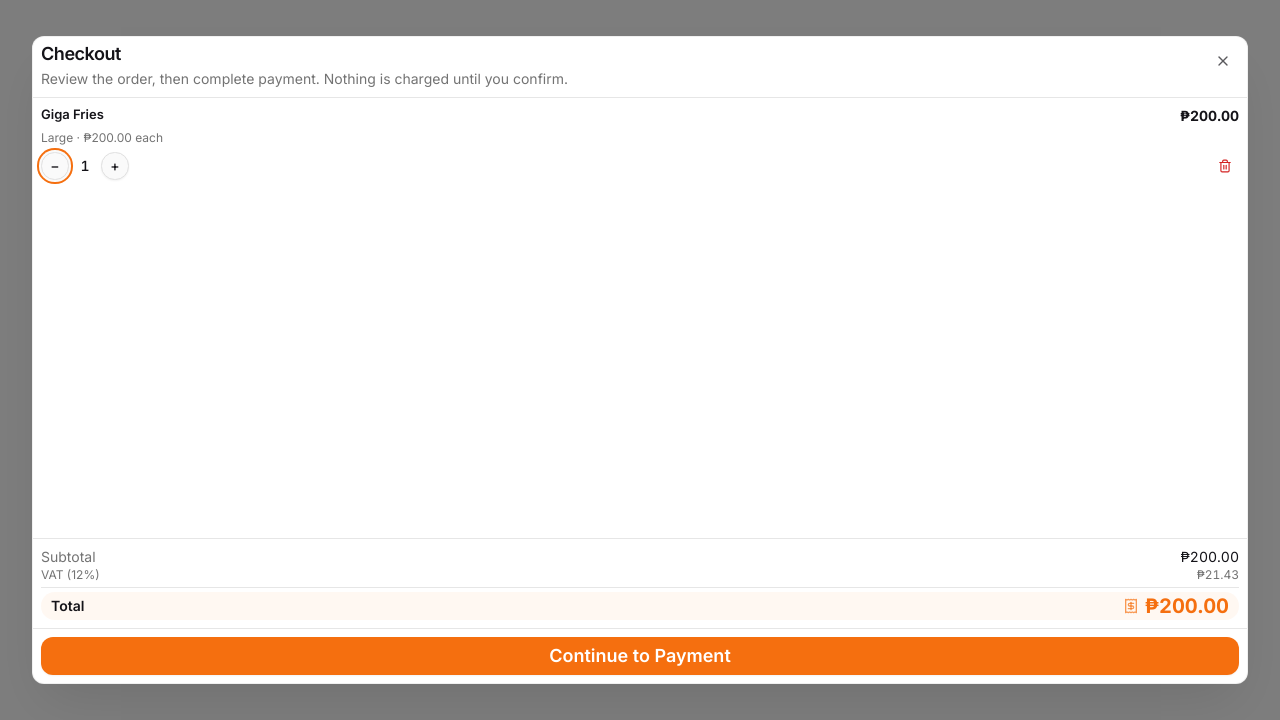
CheckoutWorkspace — stepped layout (Task 209.25, mobile/tablet portrait) › Continue to Payment moves to the Payment step, and Back returns to Order Review
The image size is (1280, 720).
Click the button "Continue to Payment" at point(640, 656), box [41,637,1239,675]
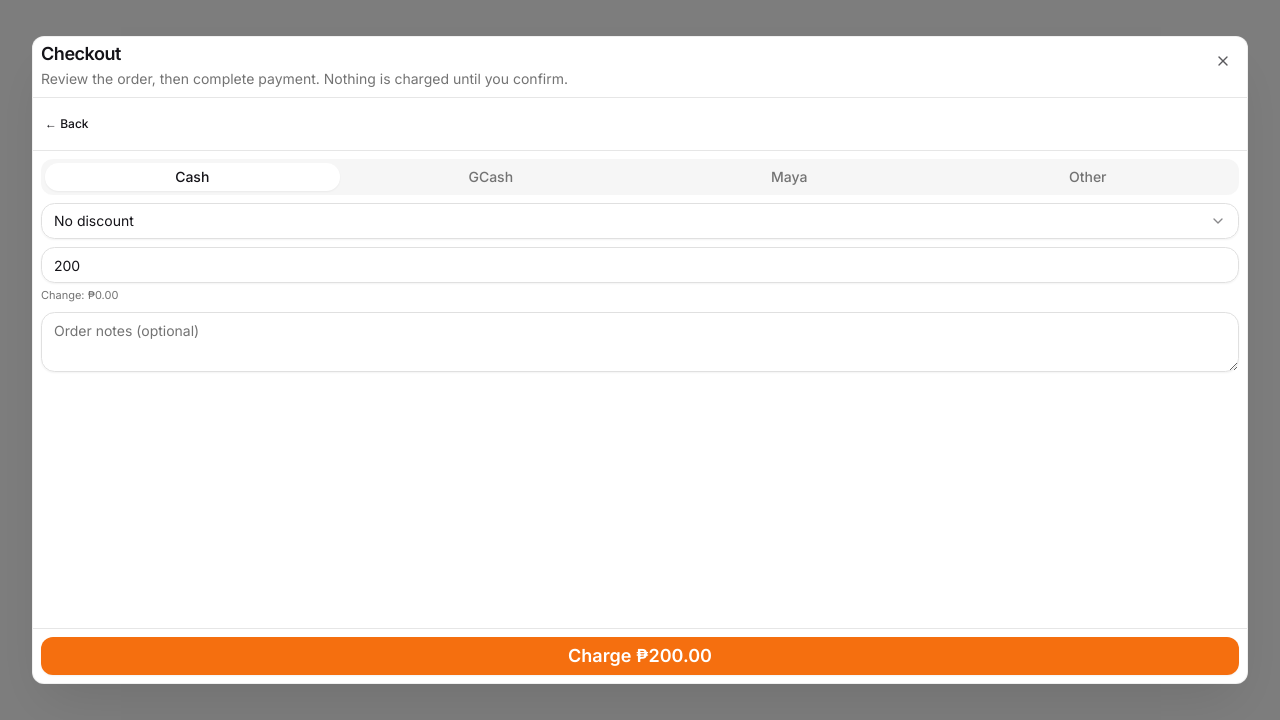
Result: the element showing "Cash GCash Maya Other" is shown at [41,159,1239,195]
Result: the text "Giga Fries" is gone
Click the button "← Back" at point(67, 124), box [33,106,100,142]
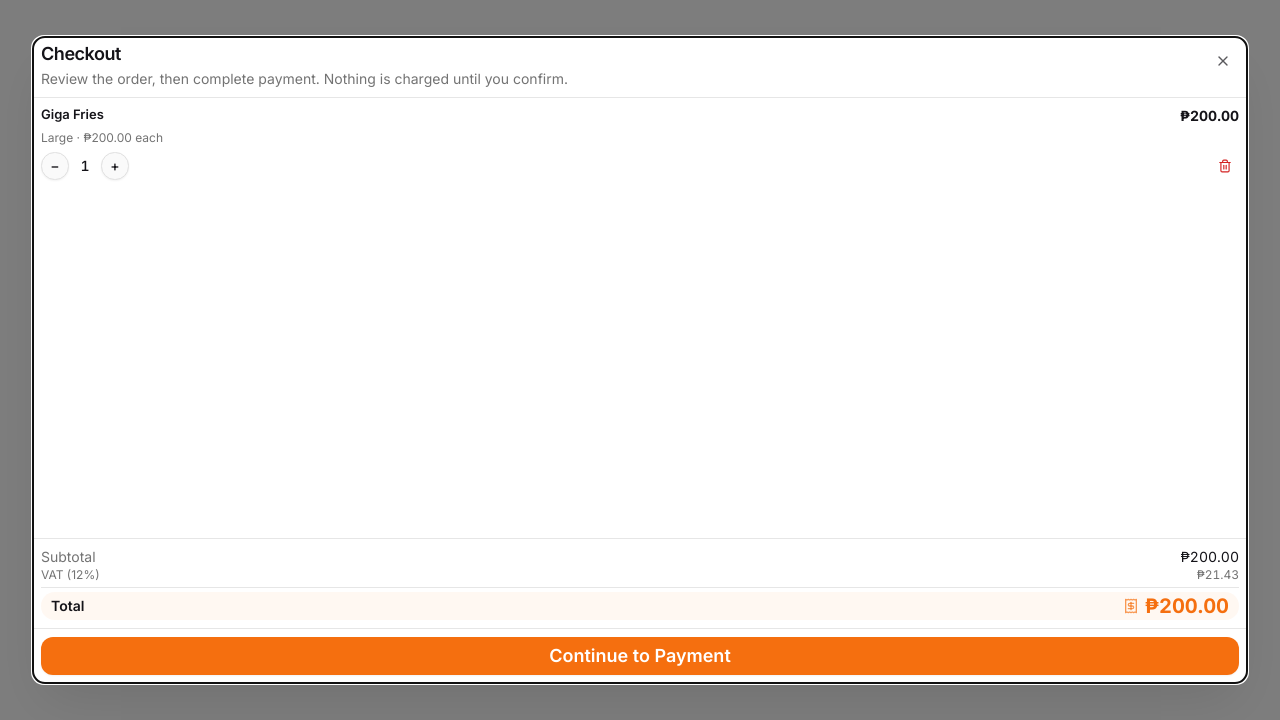
Result: the text "Giga Fries" is shown at [41,106,104,122]
